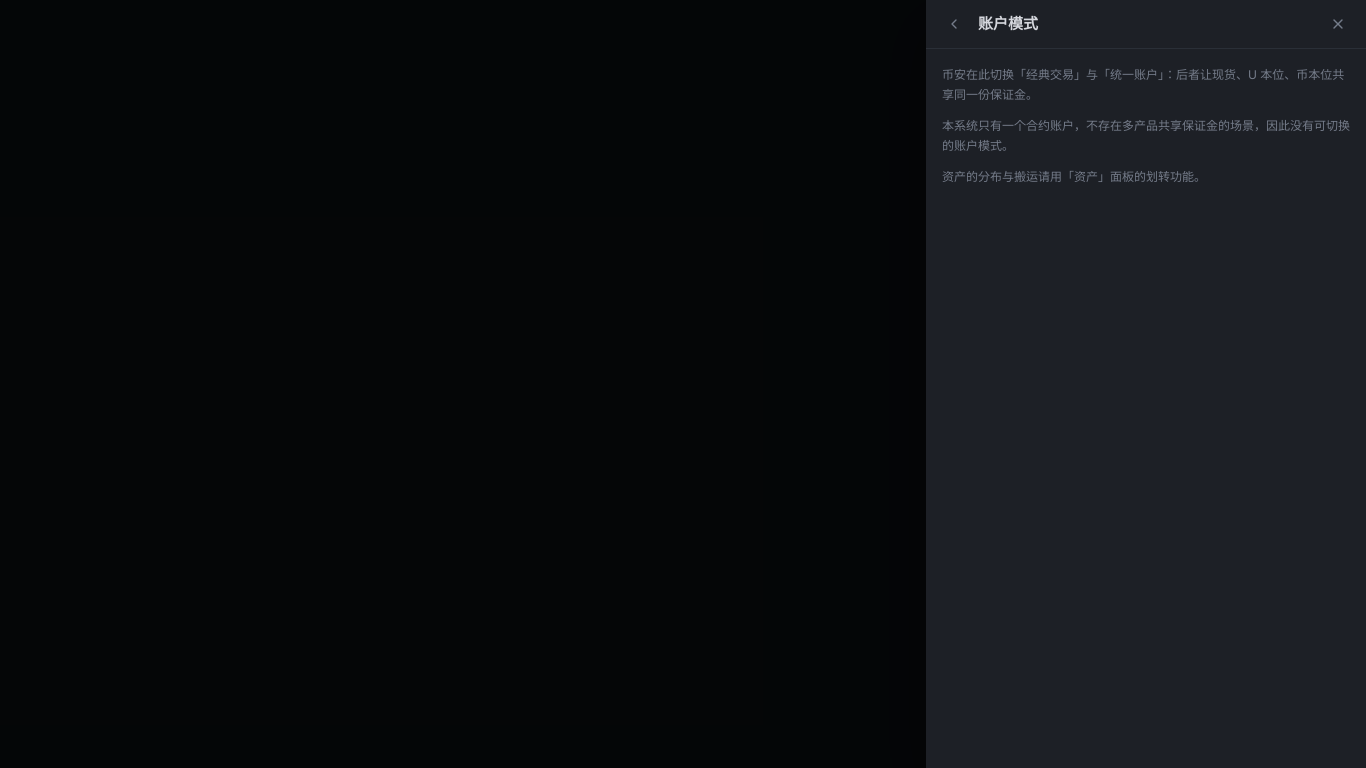
TradingPreferencesDrawer › 本系统无对应的页面照样打得开，并说明为何不可用
Earlier steps of the test are not shown.
Later steps or results of the test are not shown.
Expected: the text "币安在此切换「经典交易」与「统一账户」：后者让现货、U 本位、币本位共享同一份保证金。" is shown, [942,65,1350,104]
Step 1. Click the button with test id "prefs-back" → (954, 24), box [942,12,966,36]
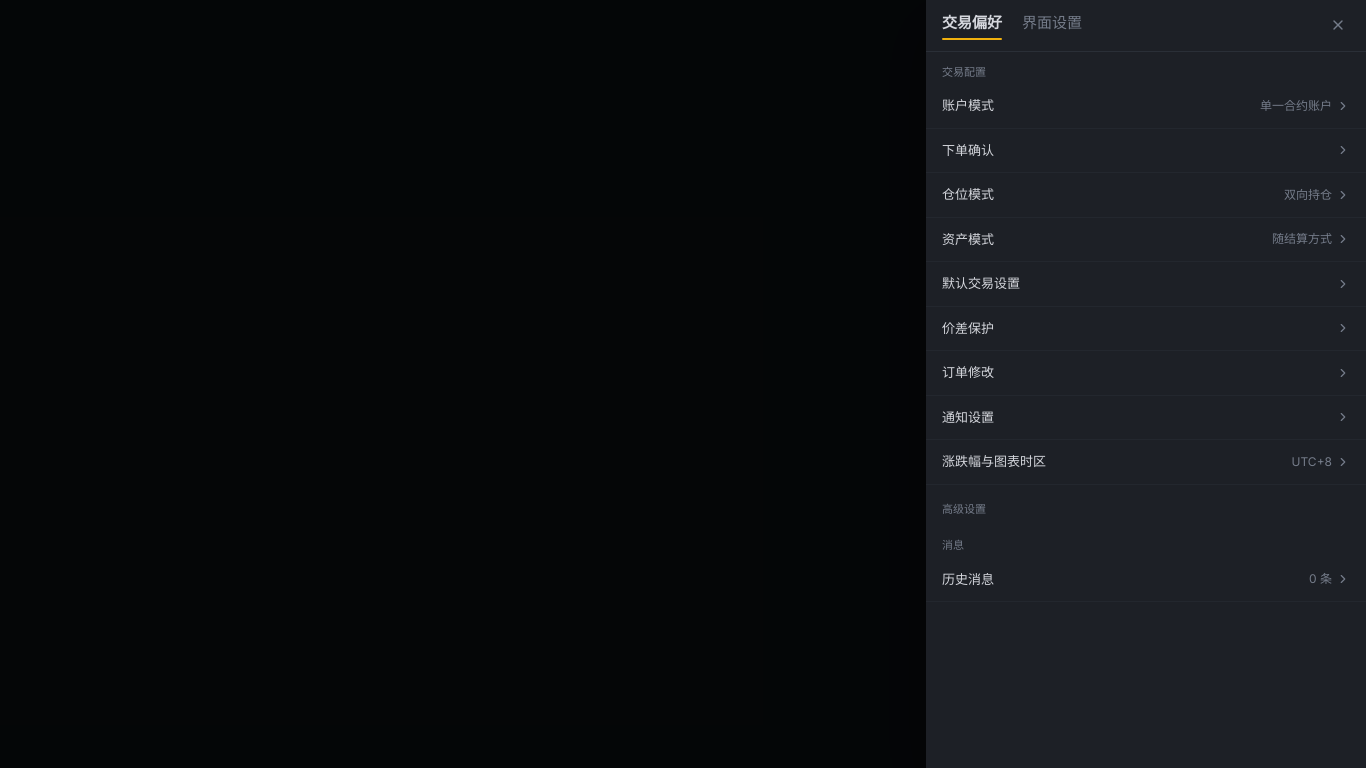
Step 2. Click the button "资产模式 随结算方式" → (968, 238), box [926,218,1365,262]
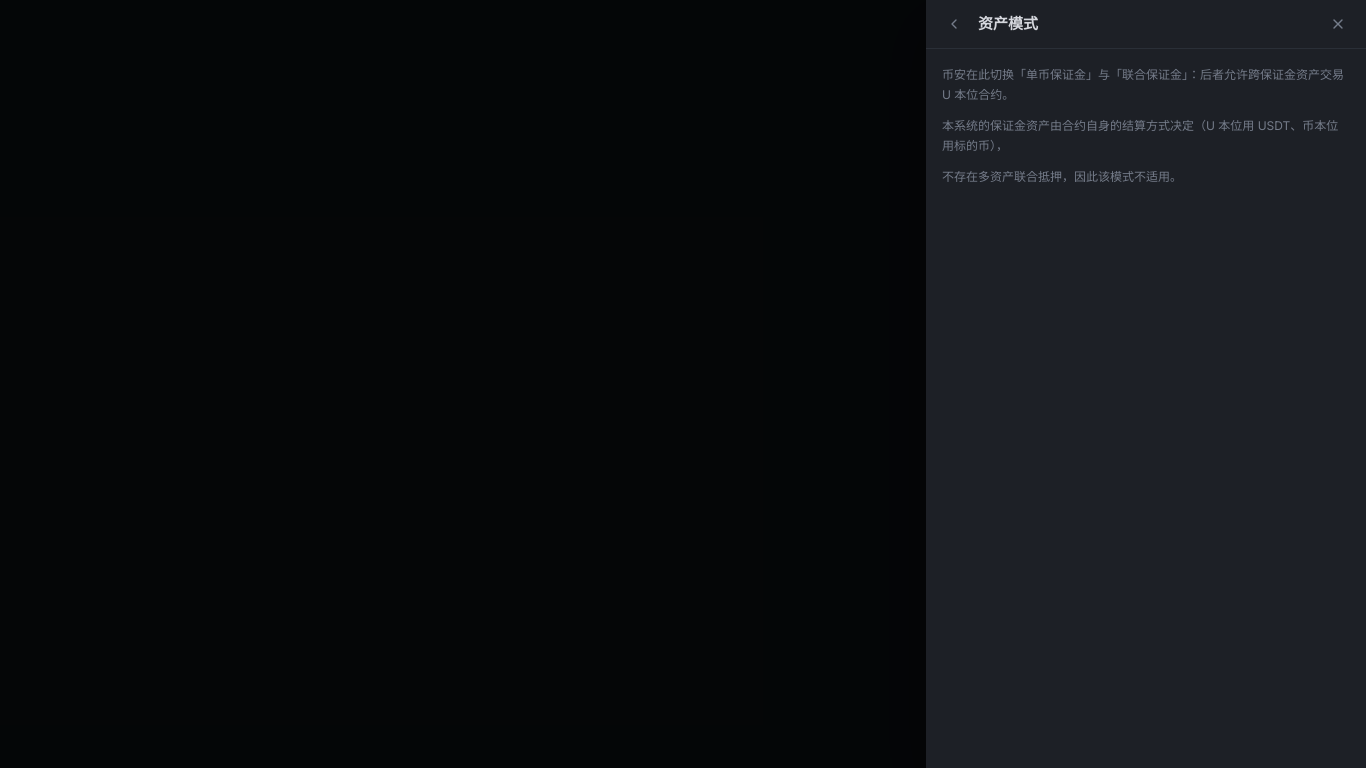
Result: the text "币安在此切换「单币保证金」与「联合保证金」：后者允许跨保证金资产交易 U 本位合约。" is shown at [942,65,1350,104]
Step 3. Click the button with test id "prefs-back" → (954, 24), box [942,12,966,36]
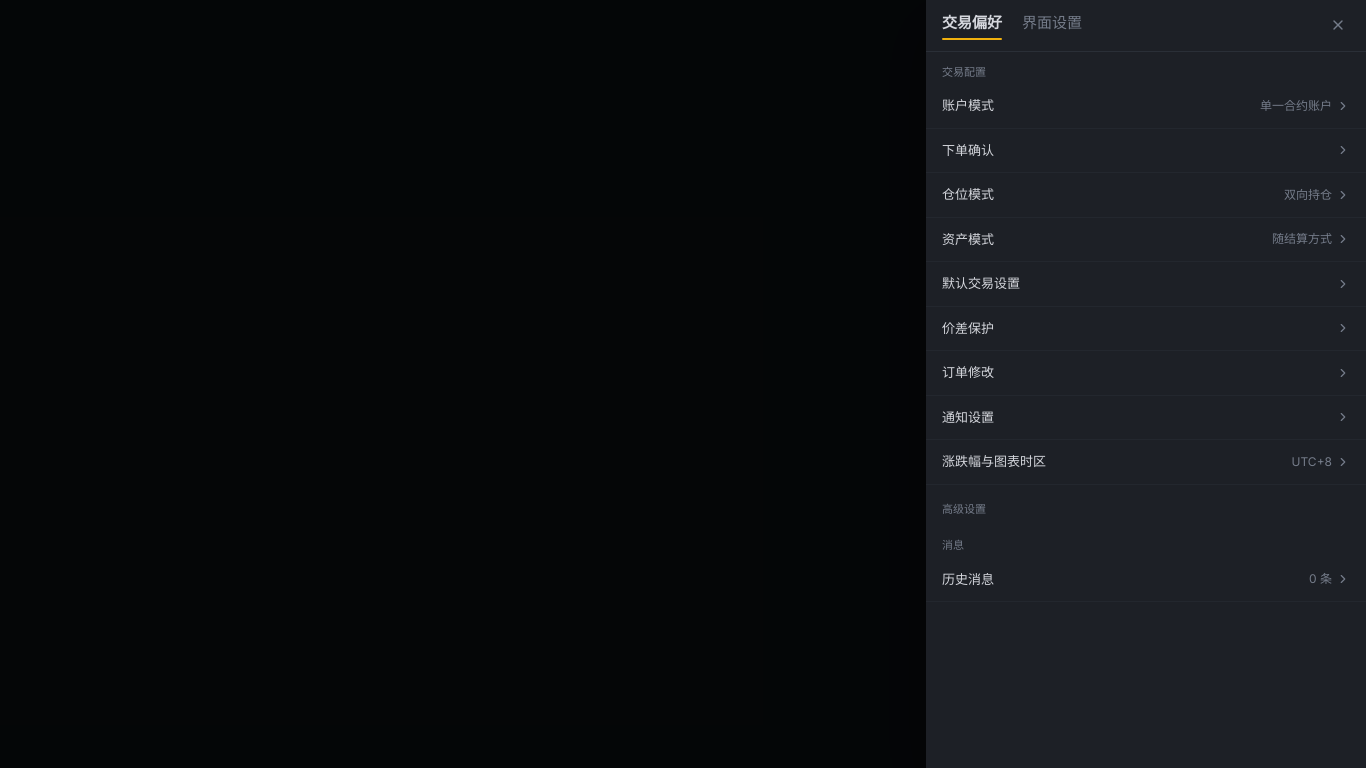
Step 4. Click the button "价差保护" → (968, 328), box [926,306,1365,351]
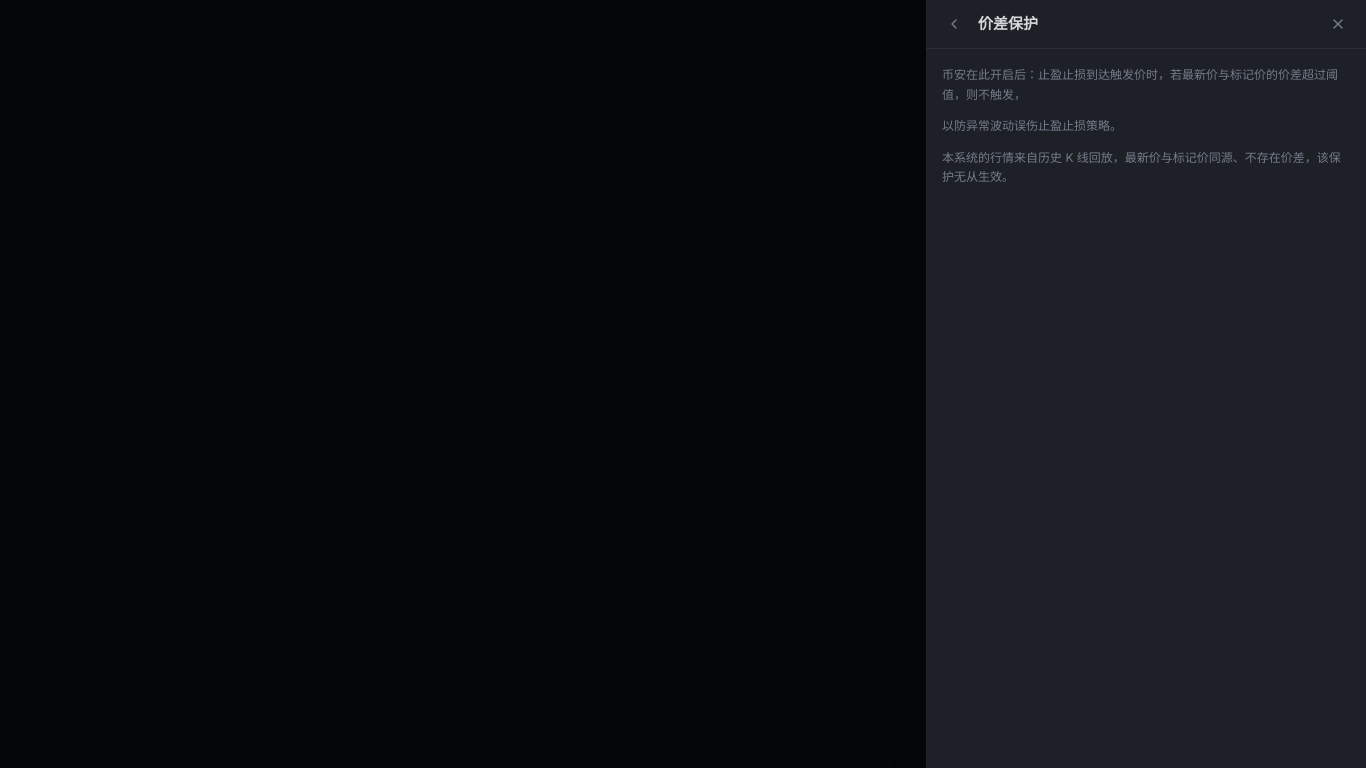
Result: the text "以防异常波动误伤止盈止损策略。" is shown at [942,118,1122,133]
Step 5. Click the button with test id "prefs-back" → (954, 24), box [942,12,966,36]
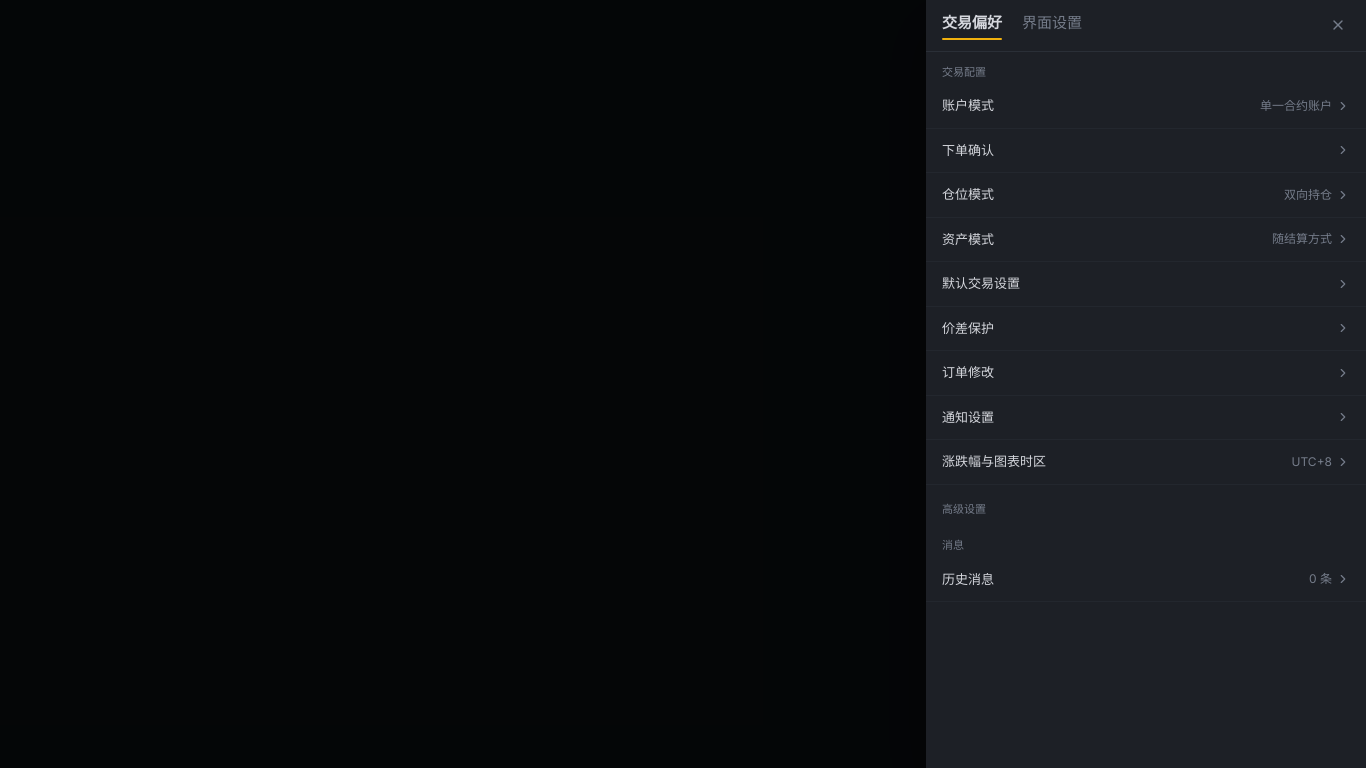
Step 6. Click the button "涨跌幅与图表时区 UTC+8" → (994, 461), box [926,440,1365,484]
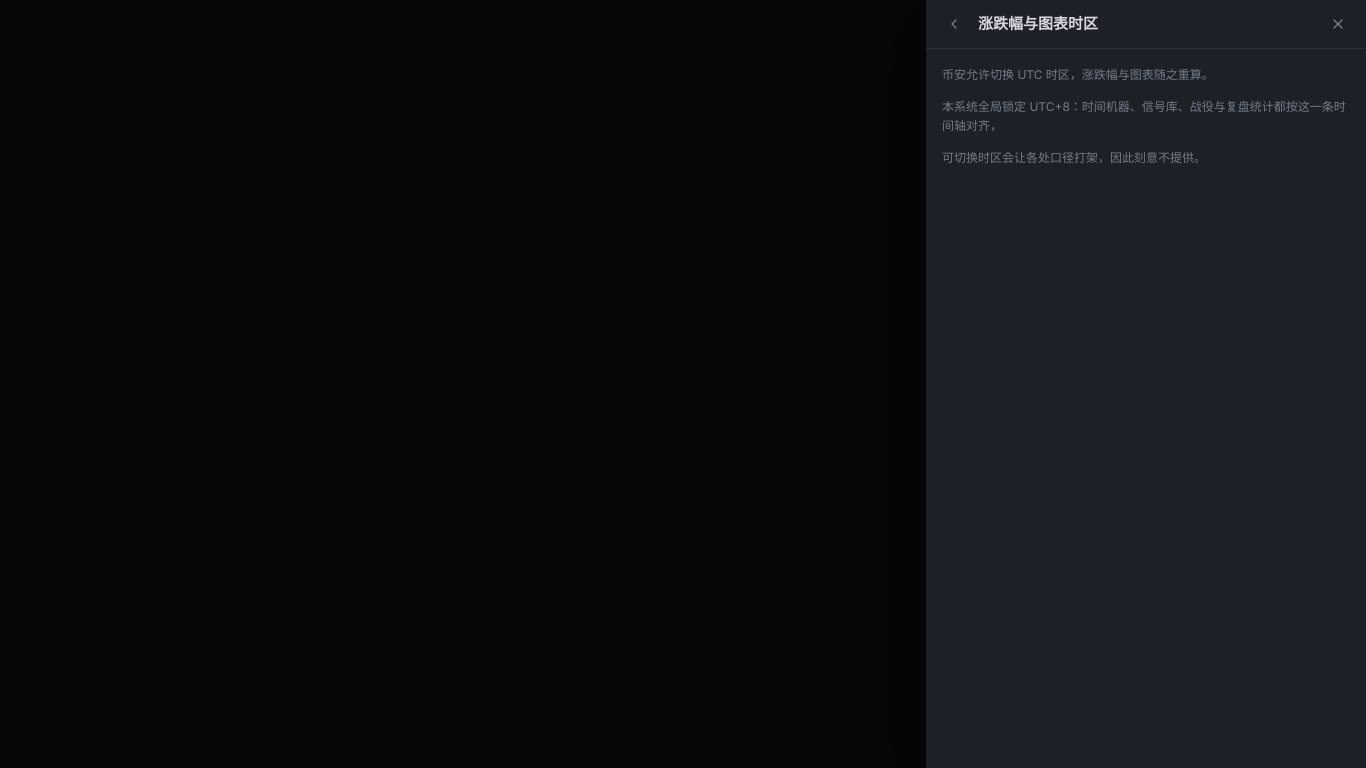
Result: the text "本系统全局锁定 UTC+8：时间机器、信号库、战役与复盘统计都按这一条时间轴对齐，" is shown at [942,96,1350,136]
